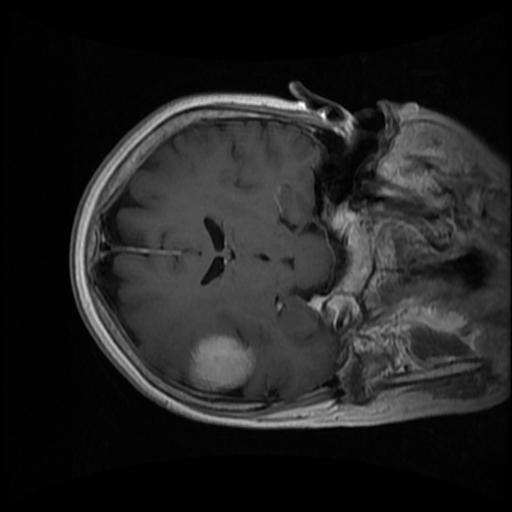meningioma: (187, 335, 254, 392)
